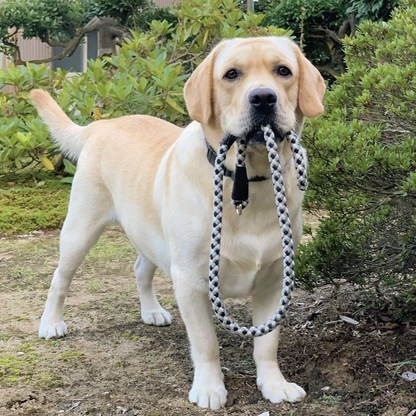labrado: (22, 33, 331, 411)
